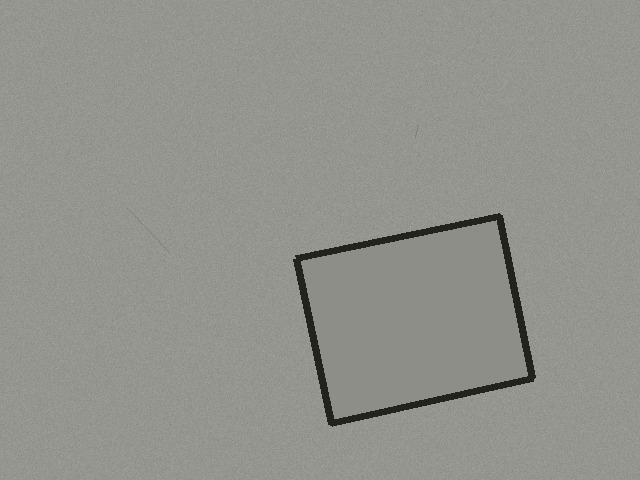parking_area: (296, 216, 532, 423)
